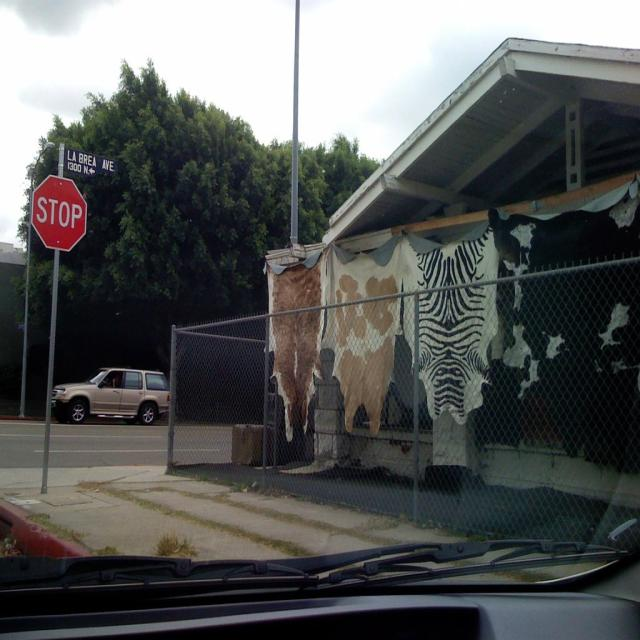Stop-sign: (30, 174, 90, 253)
